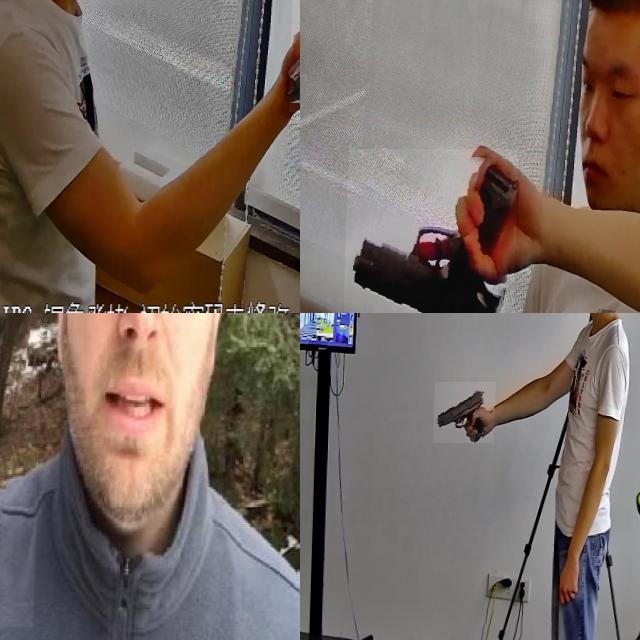-: (0, 313, 131, 627)
gun-knife-thesis - v11 Yolov5 augmented: (345, 148, 520, 313), (436, 382, 498, 443)
